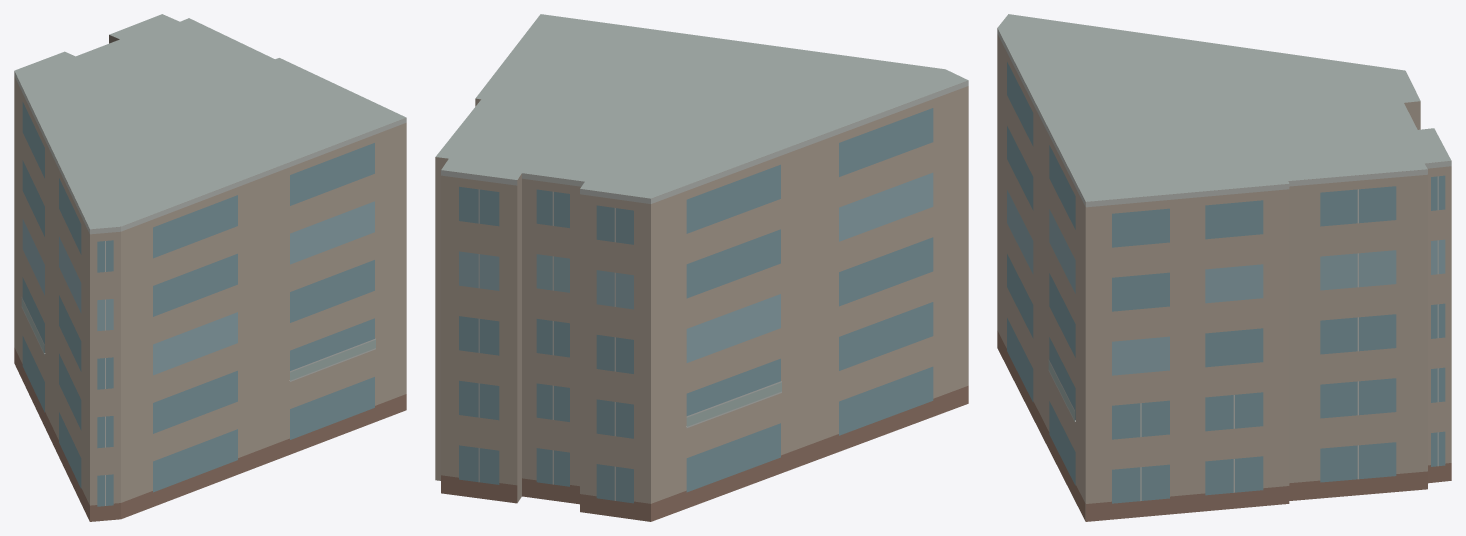
The model's file is survey-upis-32794944.glb.
The picture shows the model from 3 angles, left to right: view 1: azimuth 30°, elevation 25°; view 2: azimuth 150°, elevation 25°; view 3: azimuth 270°, elevation 25°; orthographic projection. The views are drawn at different scales.
Parts seen in each view (by area): view 1: survey-upis-32794944.tmp; view 2: survey-upis-32794944.tmp; view 3: survey-upis-32794944.tmp.
Part boxes in pixels (x1,y1,x2,y2): survey-upis-32794944.tmp: [14, 14, 406, 521]; survey-upis-32794944.tmp: [435, 14, 968, 521]; survey-upis-32794944.tmp: [997, 14, 1451, 521].
Size of the model in its own units: 17.95 by 14.25 by 18.34.
